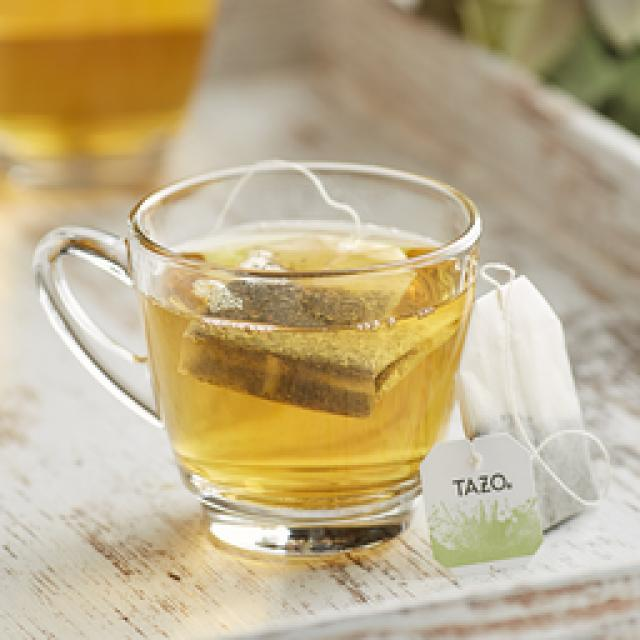tea-bags: (418, 275, 604, 570), (182, 236, 470, 416)
